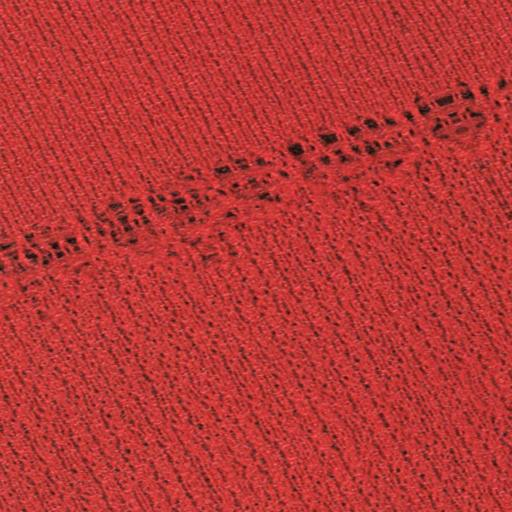slub: (0, 68, 511, 320)
